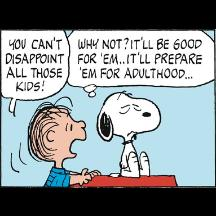snoopy: (96, 88, 162, 177)
